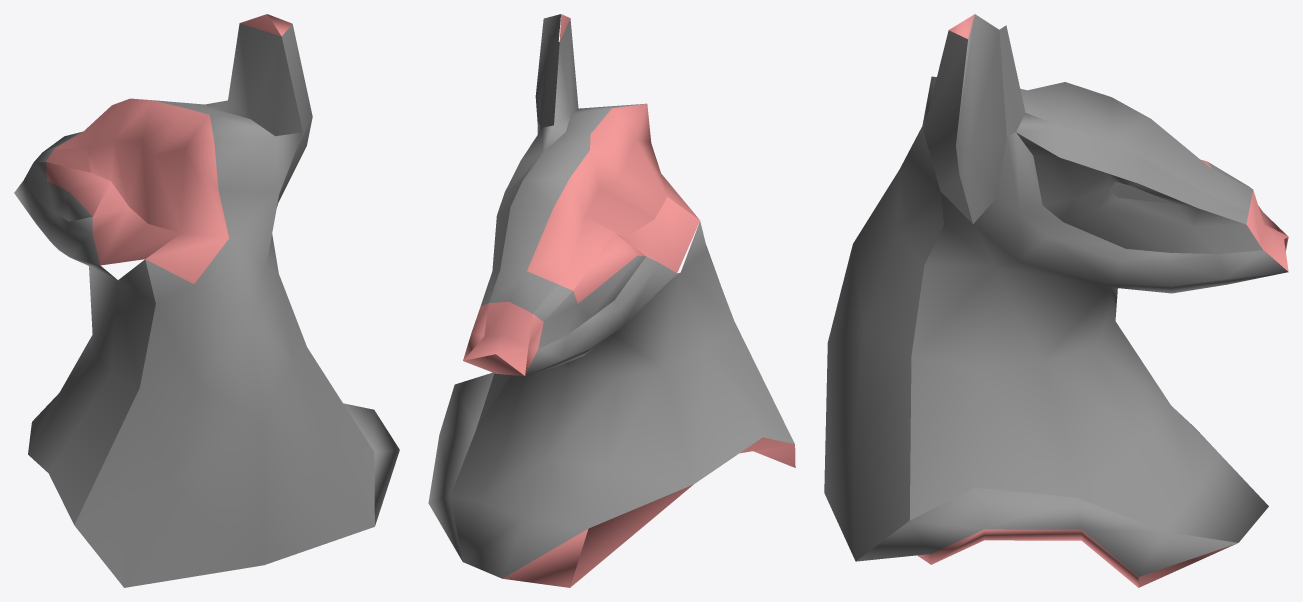
File: SSQ_statue01_b03.gltf
3 renders of one model, left to right at view 1: azimuth 30°, elevation 25°; view 2: azimuth 150°, elevation 25°; view 3: azimuth 270°, elevation 25°, orthographic. The views are drawn at different scales.
Visible parts, largest first — view 1: SSQ_statue01_b03; view 2: SSQ_statue01_b03; view 3: SSQ_statue01_b03.
Boxes of the visible parts, x1=… form: SSQ_statue01_b03: x1=14, y1=14, x2=399, y2=587; SSQ_statue01_b03: x1=428, y1=14, x2=795, y2=587; SSQ_statue01_b03: x1=824, y1=14, x2=1288, y2=587.
Bounding box in the file's own units: 0.3986 × 0.6194 × 0.4449.
